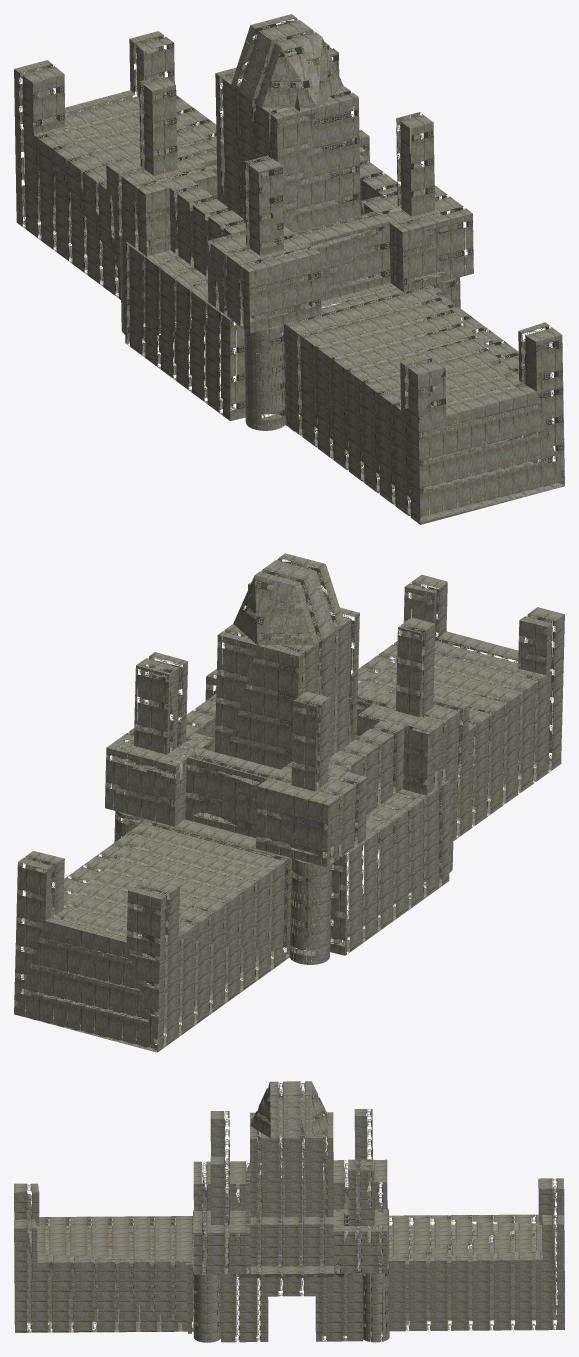
File: castillo3.obj
The picture shows the model from 3 angles, top to bottom: view 1: azimuth 30°, elevation 25°; view 2: azimuth 150°, elevation 25°; view 3: azimuth 270°, elevation 25°; orthographic projection. The views are drawn at different scales.
Visible parts, largest first — view 1: Plano.001; view 2: Plano.001; view 3: Plano.001.
Part boxes in pixels (x1,y1,x2,y2): Plano.001: [14, 14, 564, 524]; Plano.001: [14, 553, 564, 1052]; Plano.001: [14, 1081, 564, 1342].
Size of the model in its own units: 32.22 by 44.93 by 101.
